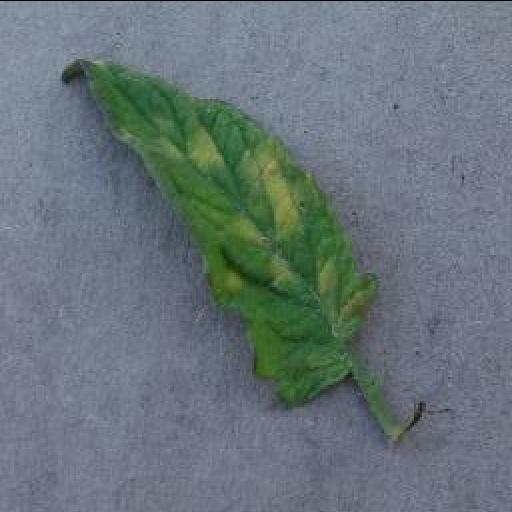disease_tomato: (59, 57, 377, 401)
